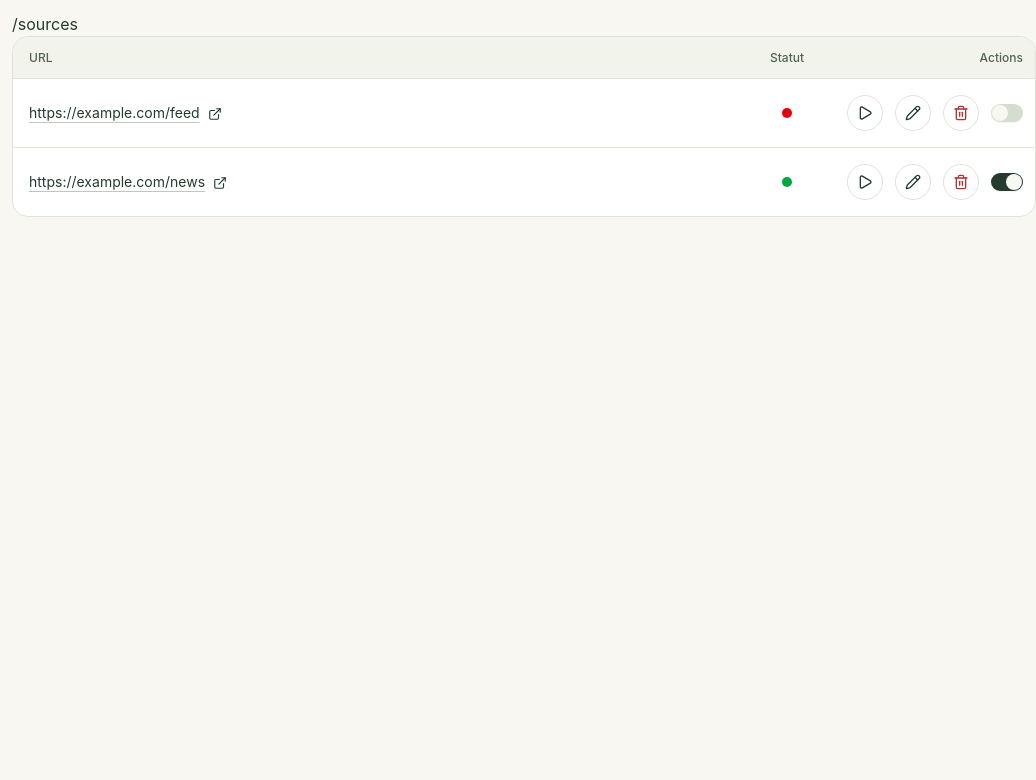
Test: edits an RSS URL in place, refreshes the list and preserves the disabled source
Click the link named "Modifier https://example.com/feed".
click(913, 113)  # box [895,95,931,131]
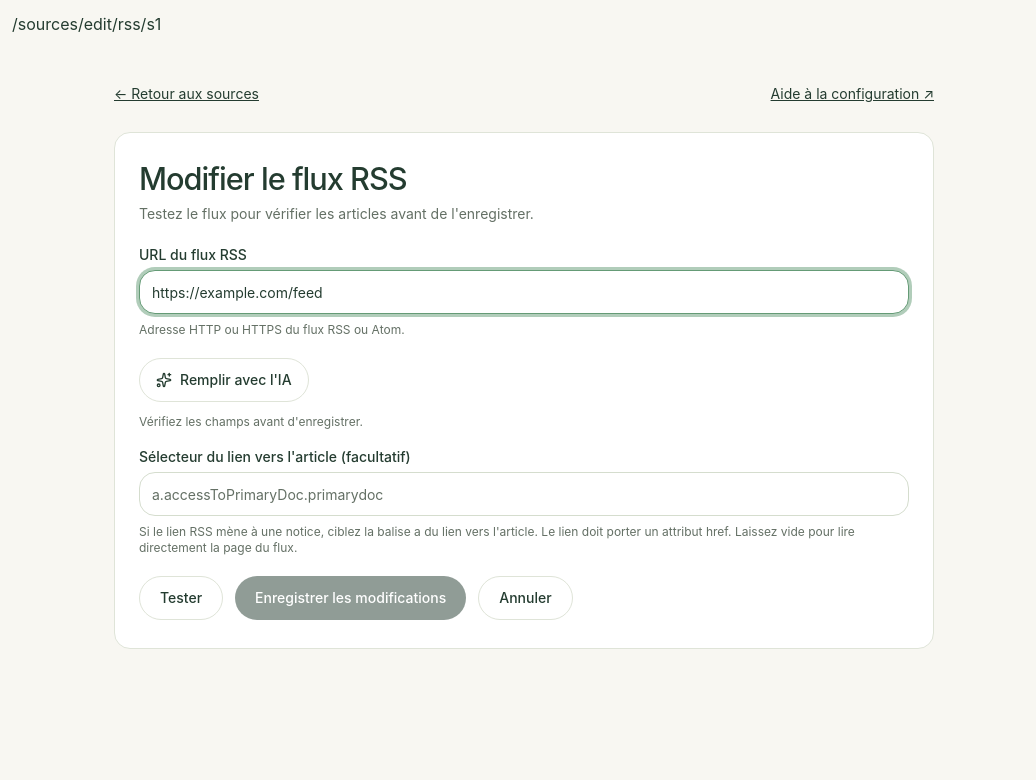
expect the field labelled "URL du flux RSS" holds "https://example.com/feed": met
Replace the text in the field labelled "URL du flux RSS" with "https://example.com/new-feed" at [524, 292], box [139,270,909,314]
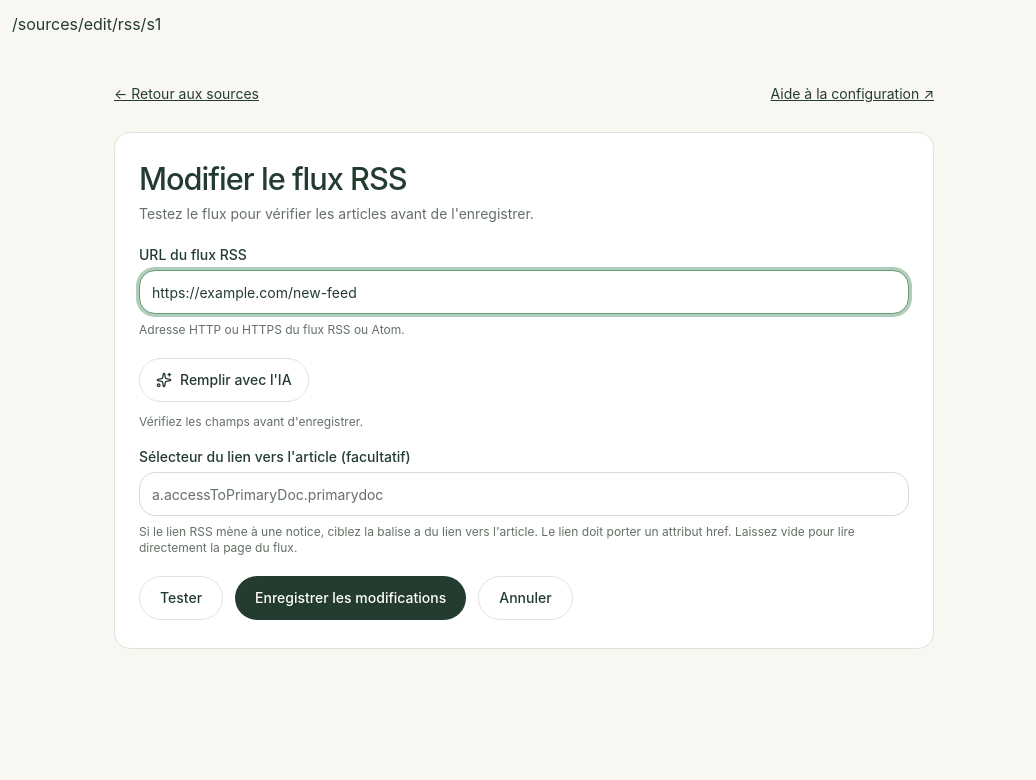
Click the button "Enregistrer les modifications".
click(351, 598)  # box [235,576,466,620]
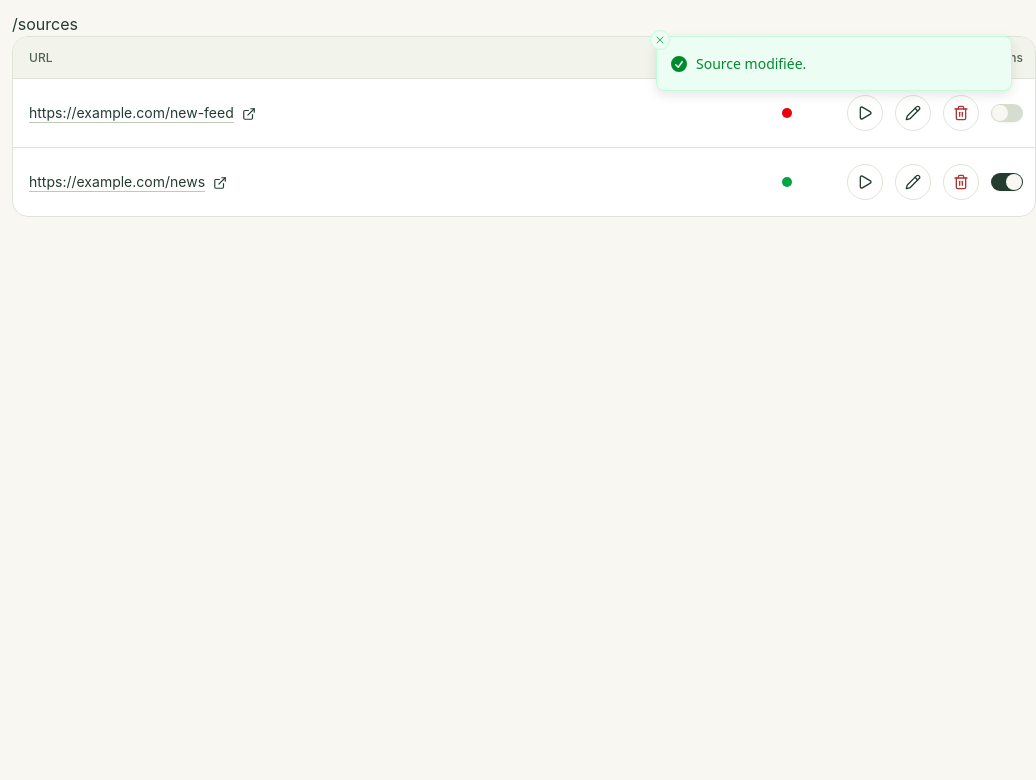
expect the text "Source modifiée." is shown: met, box [696,54,806,73]
expect the link "https://example.com/new-feed" is shown: met, box [29,104,256,121]
expect the label labelled "URL du flux RSS" is gone: met
